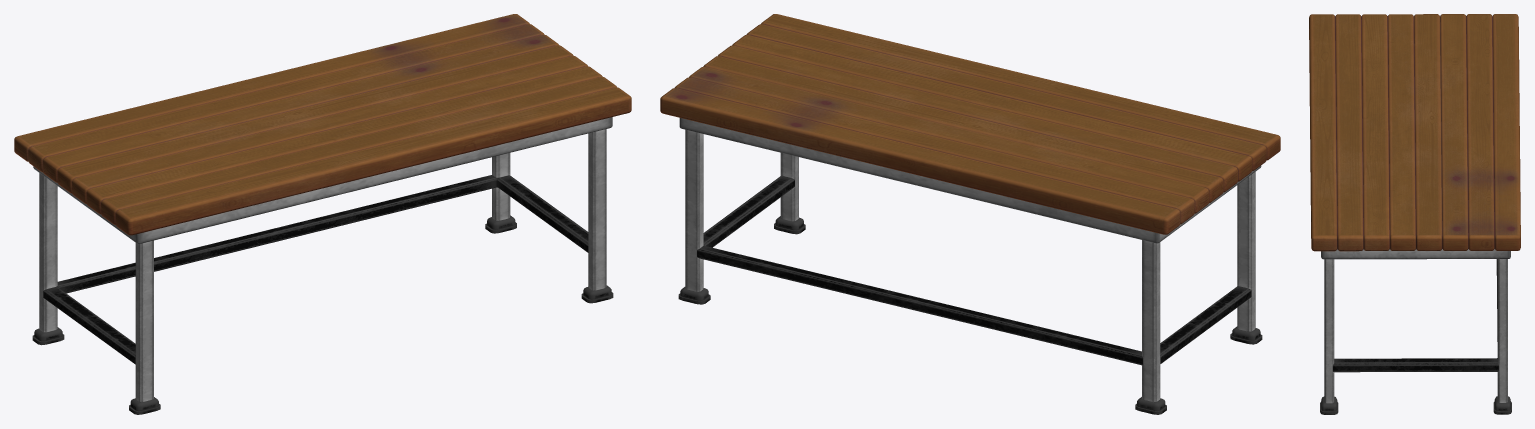
The model's file is desktop-model.glb.
The picture shows the model from 3 angles, left to right: view 1: azimuth 30°, elevation 25°; view 2: azimuth 150°, elevation 25°; view 3: azimuth 270°, elevation 25°; orthographic projection. The views are drawn at different scales.
Visible parts, largest first — view 1: table; view 2: table; view 3: table.
Boxes of the visible parts, box(x1,y1,x2,y2) form: table: box(14, 14, 631, 414); table: box(660, 14, 1280, 414); table: box(1309, 14, 1520, 414).
Size of the model in its own units: 187 by 71.47 by 74.78.
Materials: 1 (1 with a texture image).
